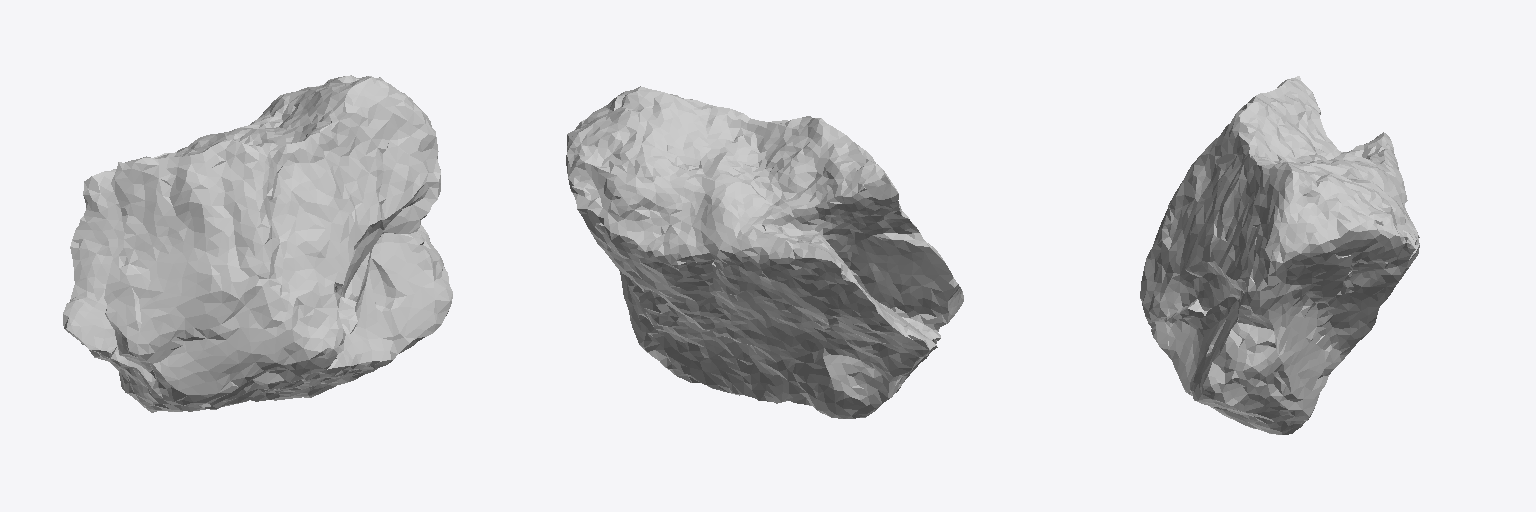
Rendered from moss rock 12.obj.
3 views of the same model, side by side, from view 1: azimuth 30°, elevation 25°; view 2: azimuth 150°, elevation 25°; view 3: azimuth 270°, elevation 25° (orthographic).
Bounding box in the file's own units: 2.97 × 2.29 × 2.01.